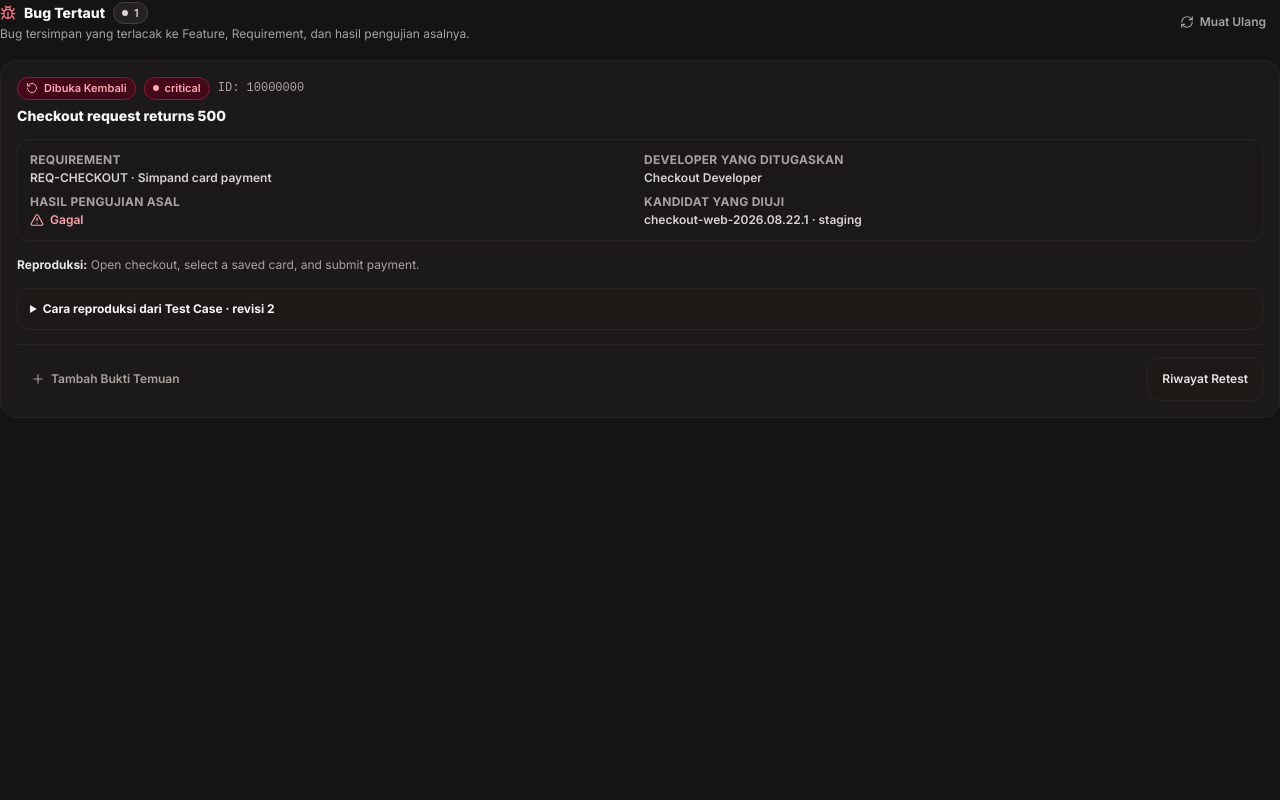
Scenario: BugExperiencePanel › keeps every Developer and QA evidence set grouped by repair cycle
Step 1. Click the button "Riwayat Retest" → click(1205, 379), box [1147,357,1263,401]
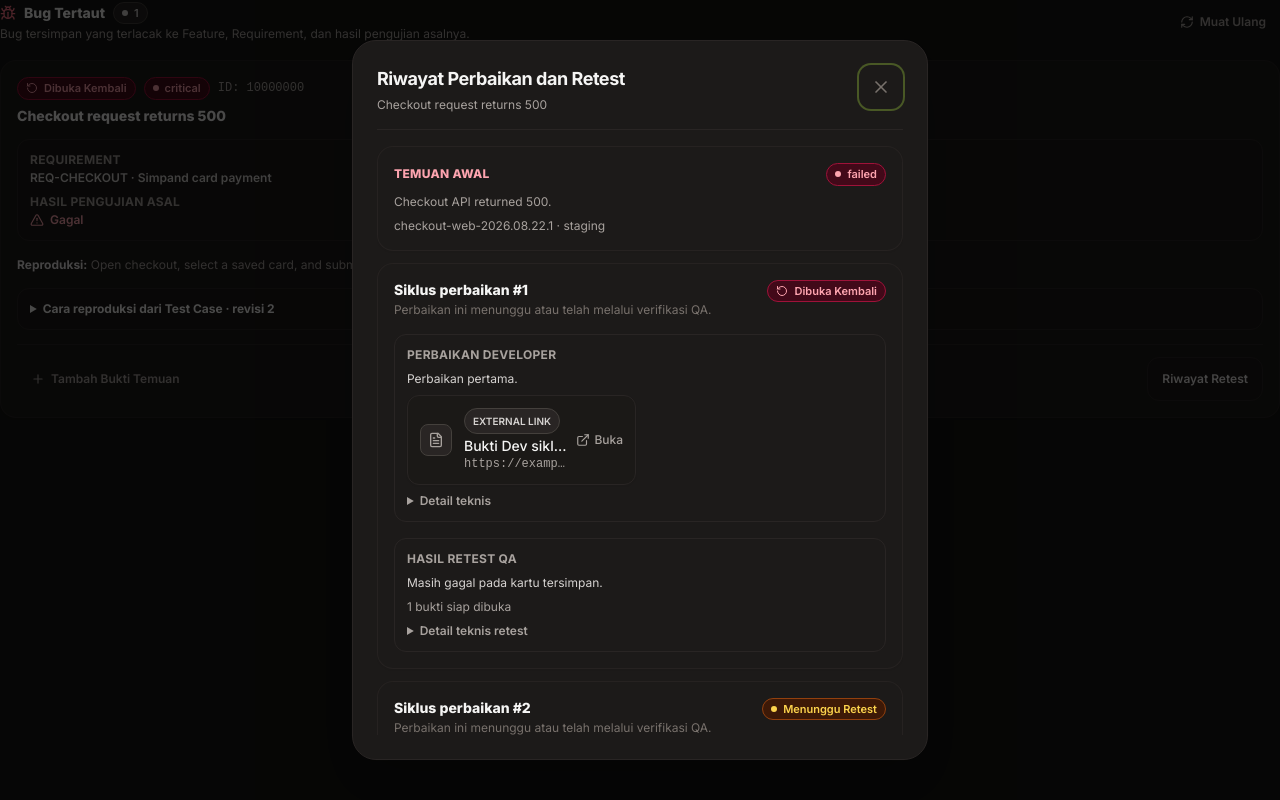
Expected: the heading "Siklus perbaikan #1" is shown, [394,280,528,298]
Expected: the heading "Siklus perbaikan #2" is shown, [394,698,531,716]
Expected: the text "Bukti Dev siklus 1" is shown, [464,436,568,456]
